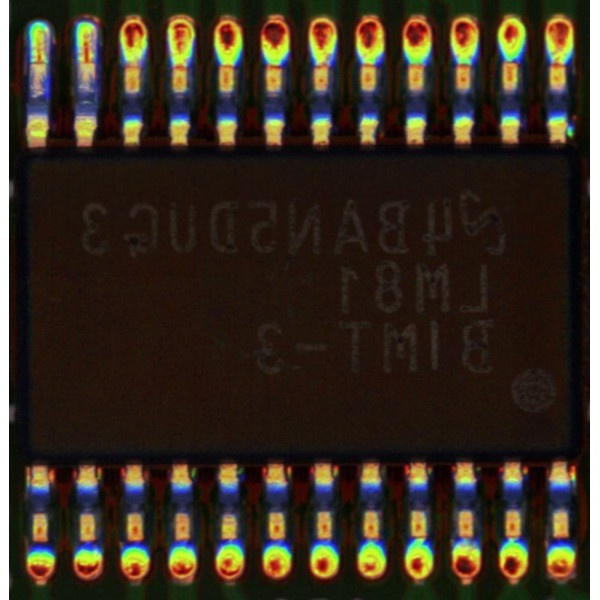Bad_podu: (31, 50, 46, 70), (80, 50, 93, 73)
